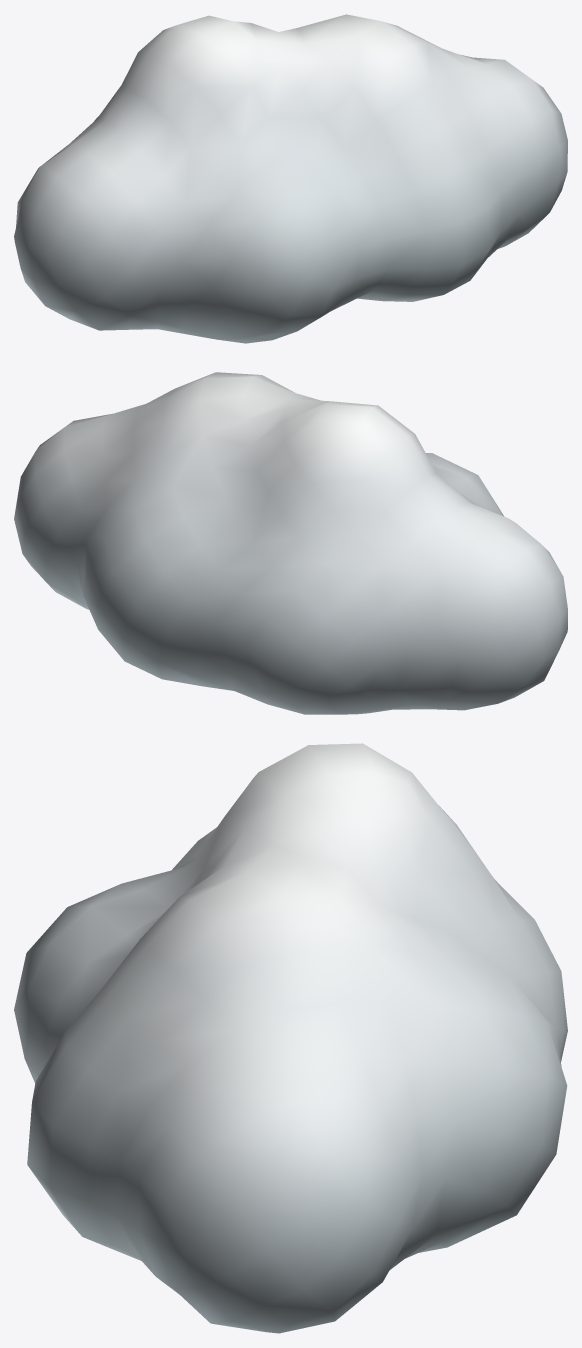
Rendered from hex-cloud_big.glb.
The picture shows the model from 3 angles, top to bottom: view 1: azimuth 30°, elevation 25°; view 2: azimuth 150°, elevation 25°; view 3: azimuth 270°, elevation 25°; orthographic projection. The views are drawn at different scales.
Parts seen in each view (by area): view 1: cloud_big; view 2: cloud_big; view 3: cloud_big.
Part boxes in pixels (x1,y1,x2,y2): cloud_big: (14,14,567,343); cloud_big: (14,372,567,714); cloud_big: (14,743,567,1333).
Size of the model in its own units: 3.61 by 1.95 by 2.24.
1 material, 1 textured.
